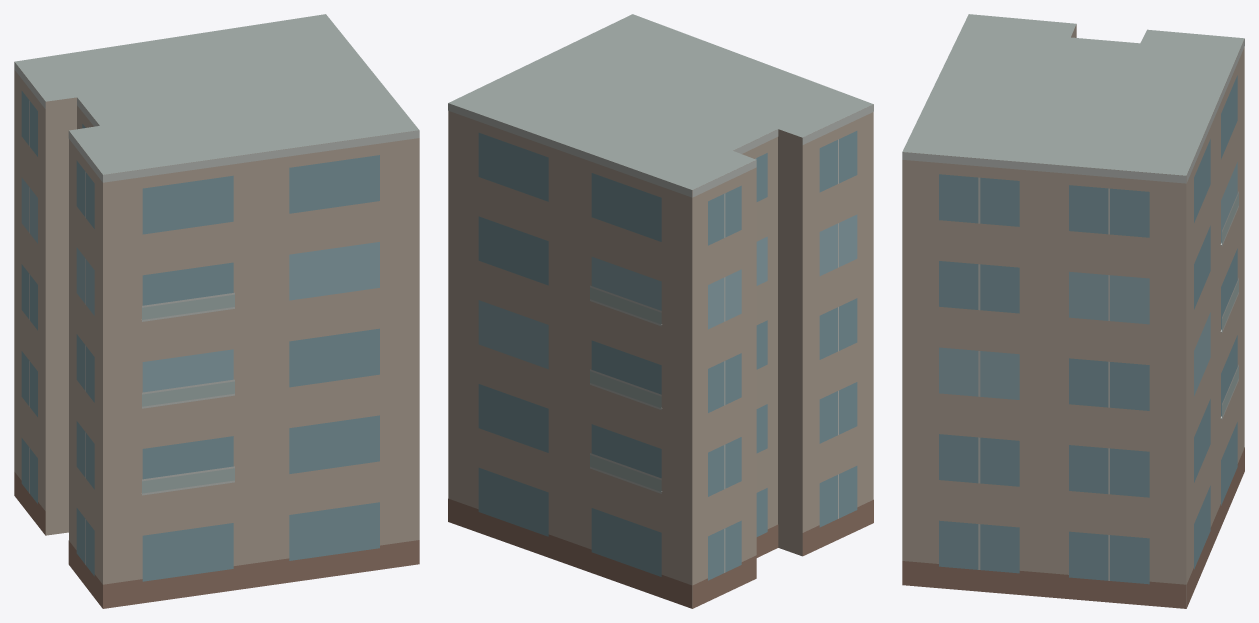
File: survey-upis-33014622.glb
The picture shows the model from 3 angles, left to right: view 1: azimuth 30°, elevation 25°; view 2: azimuth 150°, elevation 25°; view 3: azimuth 270°, elevation 25°; orthographic projection. The views are drawn at different scales.
Parts seen in each view (by area): view 1: survey-upis-33014622.tmp; view 2: survey-upis-33014622.tmp; view 3: survey-upis-33014622.tmp.
Part boxes in pixels (x1,y1,x2,y2): survey-upis-33014622.tmp: (14, 14, 419, 608); survey-upis-33014622.tmp: (448, 14, 873, 608); survey-upis-33014622.tmp: (902, 14, 1244, 608).
Size of the model in its own units: 10.82 by 13.5 by 9.69.
